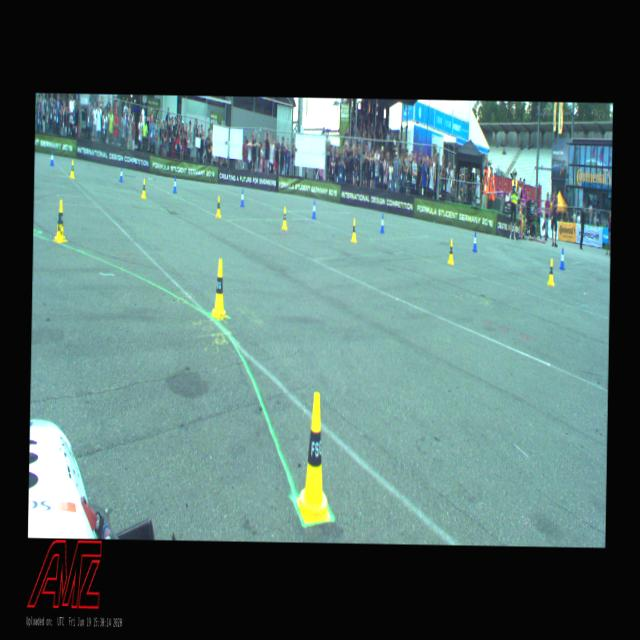blue_cone: (559, 248, 564, 270), (472, 231, 477, 251), (379, 213, 384, 232), (312, 200, 316, 218), (240, 188, 244, 206), (50, 150, 54, 166), (173, 176, 176, 192), (119, 166, 122, 182)
yellow_cone: (296, 392, 332, 523), (209, 258, 228, 318), (52, 200, 66, 242), (548, 258, 554, 286), (447, 239, 453, 264), (215, 195, 221, 218), (282, 207, 287, 230), (351, 218, 356, 241), (70, 160, 74, 178), (142, 180, 146, 198)
